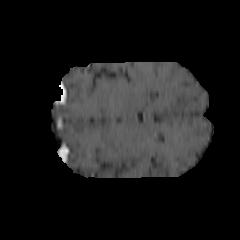glioma: (74, 108, 163, 163)
